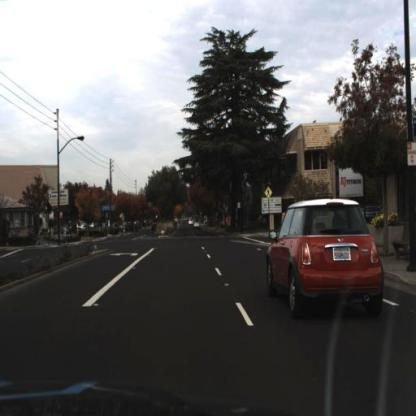car: (267, 200, 387, 320), (361, 202, 385, 223), (193, 219, 203, 231), (193, 220, 202, 230)
